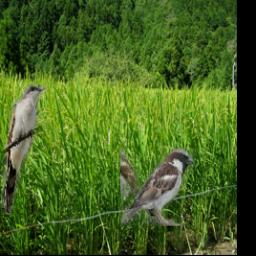Cuckoo: (1, 85, 47, 214)
Sparrow: (120, 148, 195, 227)
